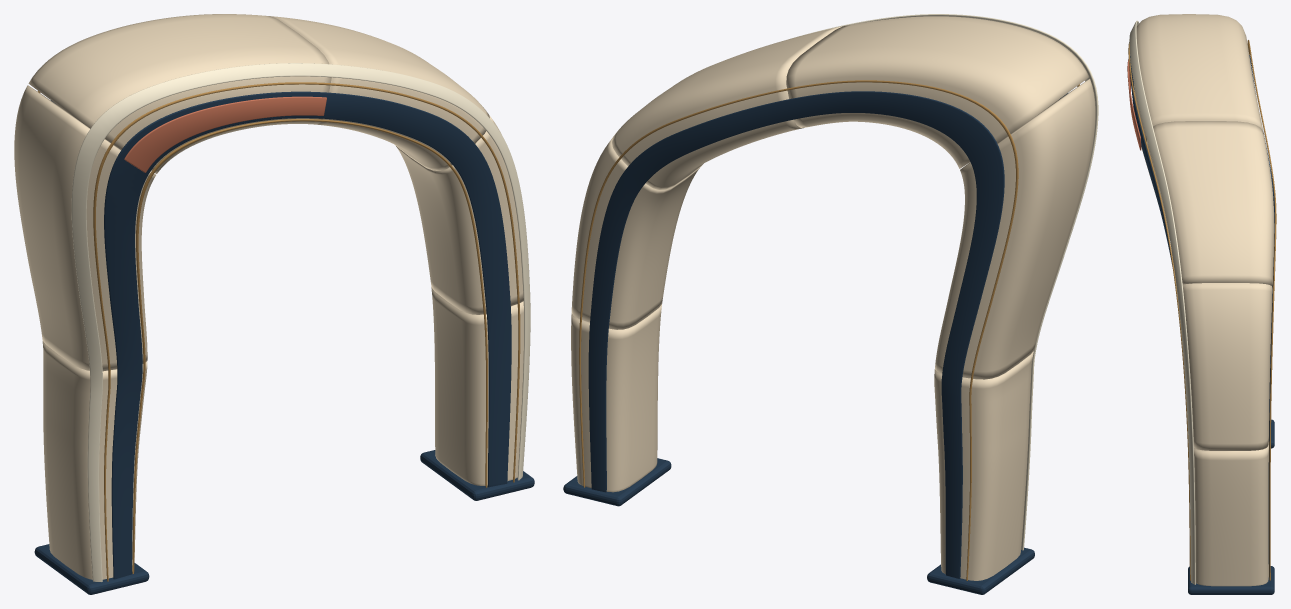
The model's file is sunward-portal-swept-clean.glb.
3 views of the same model, side by side, from view 1: azimuth 30°, elevation 25°; view 2: azimuth 150°, elevation 25°; view 3: azimuth 270°, elevation 25° (orthographic). The views are drawn at different scales.
Visible parts, largest first — view 1: Sunward swept portal conditioned.001; view 2: Sunward swept portal conditioned.001; view 3: Sunward swept portal conditioned.001.
Part boxes in pixels (<box>): Sunward swept portal conditioned.001: <box>14,14,534,594</box>; Sunward swept portal conditioned.001: <box>563,14,1098,594</box>; Sunward swept portal conditioned.001: <box>1127,14,1276,594</box>.
Bounding box in the file's own units: 7.71 × 7.95 × 2.57.
